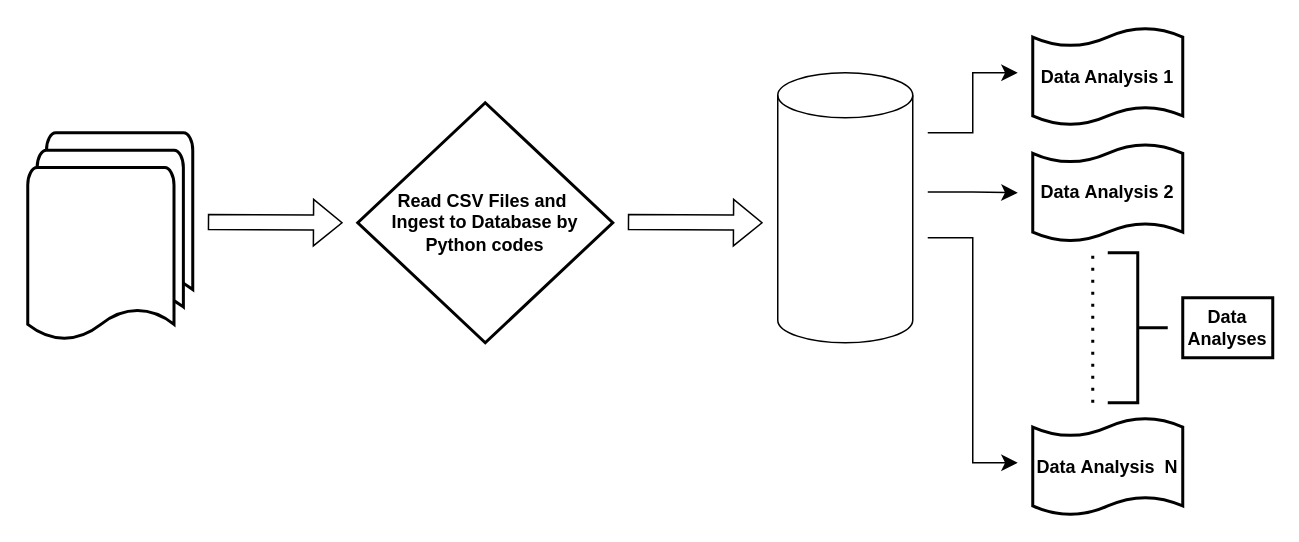
The diagram is 1299 pixels wide and 542 high, and some of its shapes have lost their labels. Here are the shapes that lost their labels. From the top down, the box of each, then its label:
(776, 71, 913, 343): Postgres Database
(26, 130, 194, 344): CSV Files
